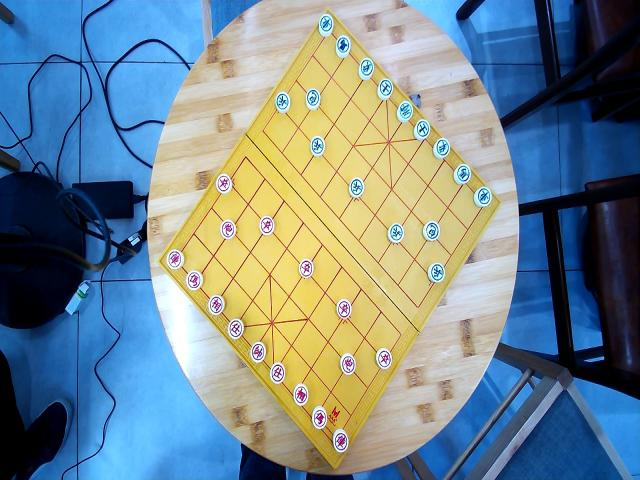piece: (432, 137, 450, 159), (375, 347, 392, 370), (311, 406, 327, 430), (318, 13, 334, 37), (422, 221, 440, 242), (387, 222, 405, 243), (453, 164, 471, 185), (474, 186, 492, 207), (396, 101, 414, 122), (427, 262, 445, 283), (166, 249, 184, 270), (414, 118, 431, 140), (274, 90, 290, 113), (358, 57, 374, 80), (335, 34, 351, 57), (292, 383, 308, 406), (270, 361, 286, 384), (333, 428, 349, 451), (208, 294, 225, 315), (305, 88, 321, 110), (228, 318, 244, 340), (250, 342, 266, 364), (340, 353, 356, 375), (186, 269, 202, 291), (336, 298, 352, 319), (377, 78, 393, 99), (216, 173, 232, 194), (348, 177, 364, 197), (298, 258, 314, 278), (220, 219, 236, 239), (310, 135, 325, 156), (259, 215, 274, 236)
